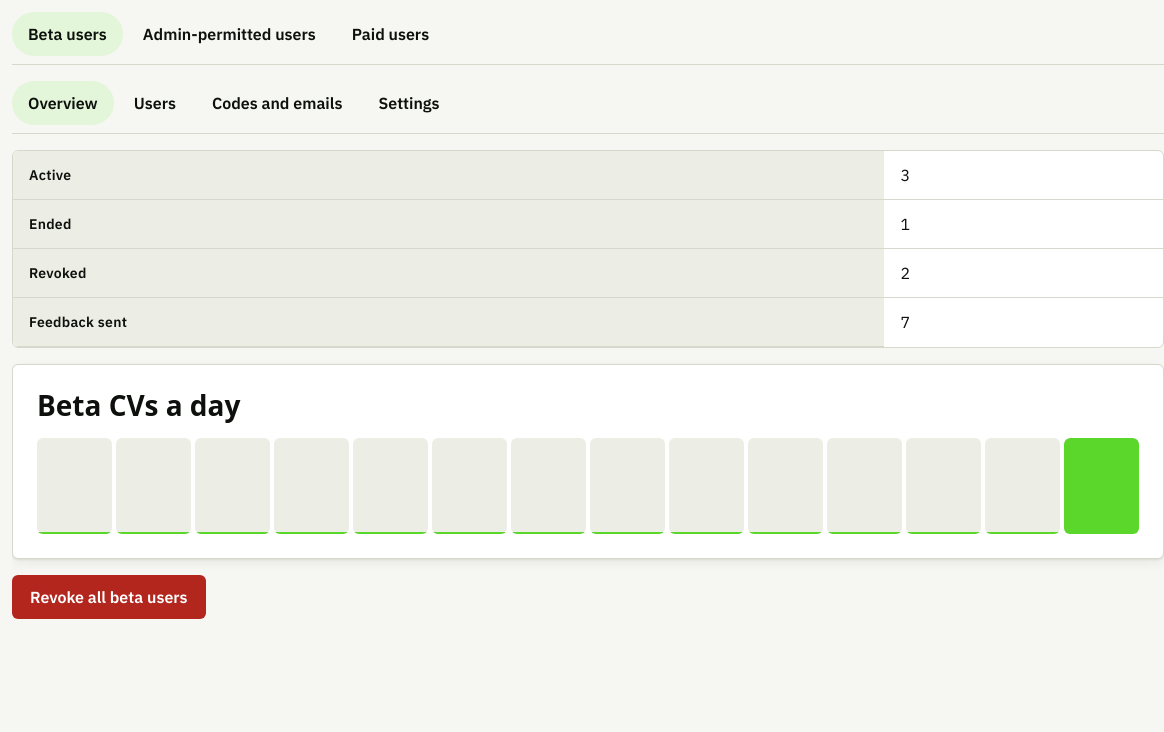
Scenario: access tab › lists the beta limits as settings
Click the tab "Beta users". click: click(67, 34)
box: x1=12 y1=12 x2=123 y2=56
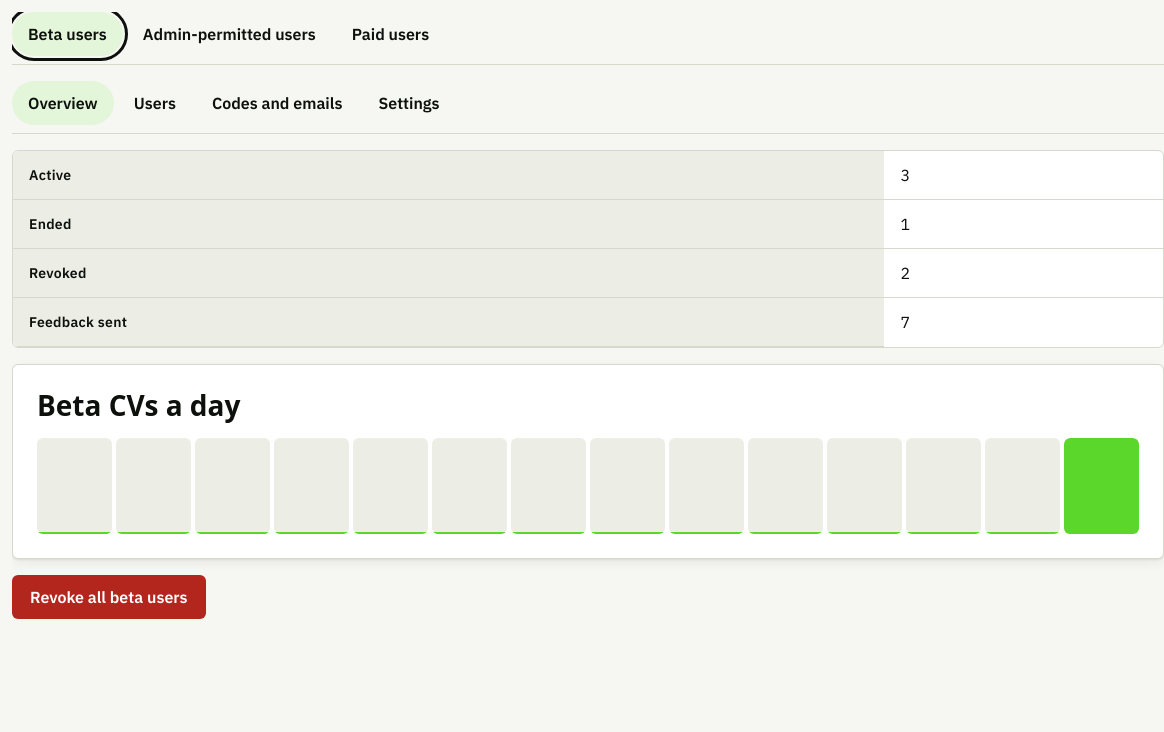
Click the tab "Settings". click: click(409, 103)
box: x1=362 y1=81 x2=456 y2=125
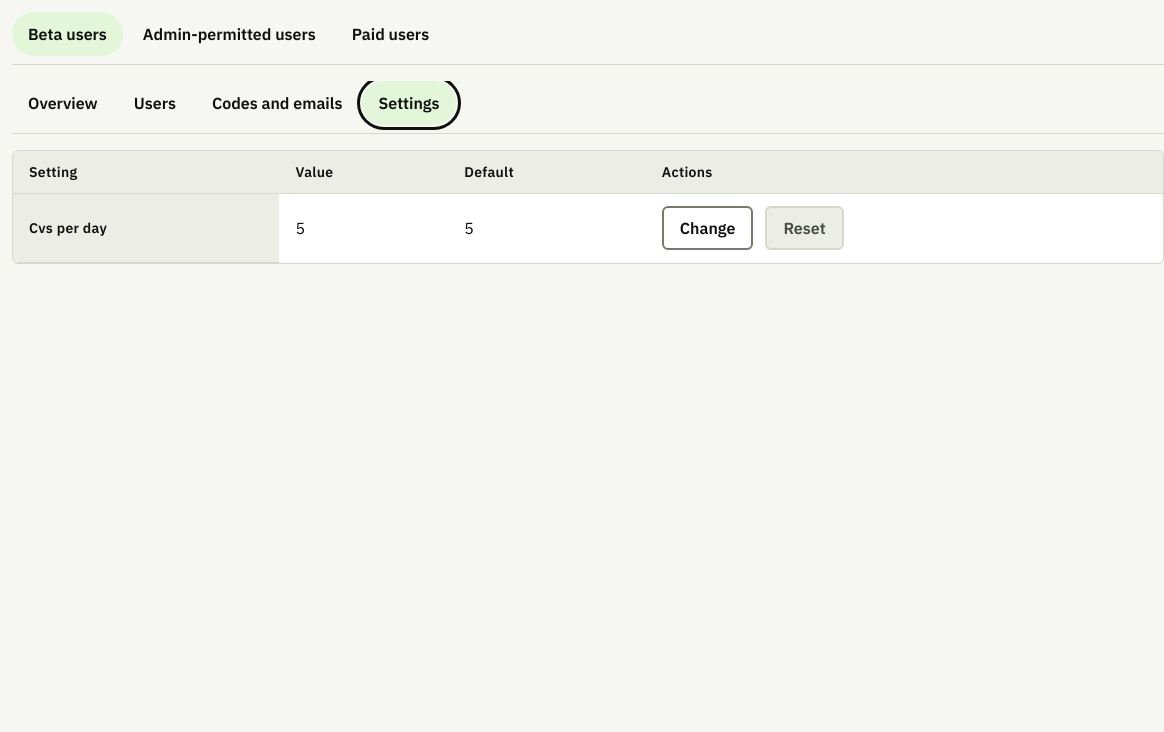
Now the column heading "Cvs per day" is shown, box x1=13 y1=194 x2=279 y2=262
